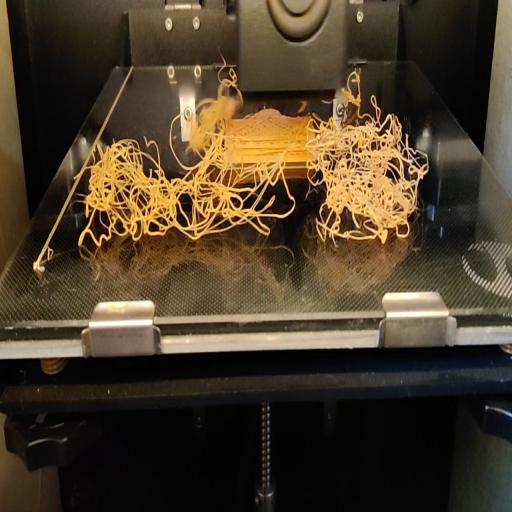spaghetti: (66, 96, 430, 247), (214, 48, 236, 91), (348, 70, 362, 98)
